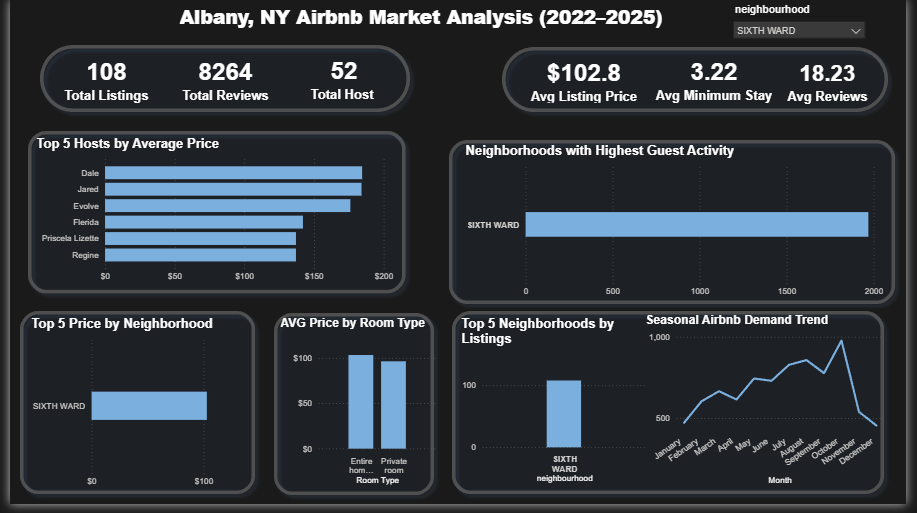

The dashboard page shown, as its layout file describes it:
{"tool":"powerbi","page":{"name":"Page 1","canvas":[1280,720],"ordinal":0},"visuals":[{"type":"group","id":"g1","title":"Group 1","box":[1.6,51.4,1276.1,666.5],"z":0},{"type":"shape","box":[29.7,51.4,554.3,121.4],"z":0,"group":"g1"},{"type":"card","fields":{"Values":["Count(listings.id)"]},"box":[38.6,67.1,198.6,88.6],"z":1000},{"type":"shape","box":[13.2,174.5,565,257.5],"z":1000,"group":"g1"},{"type":"textbox","box":[237.1,0,717.1,65.7],"z":2000},{"type":"shape","box":[689.7,53.9,577.1,118.6],"z":2000,"group":"g1"},{"type":"slicer","fields":{"Values":["listings.neighbourhood"]},"box":[1022.9,0,208.6,65.7],"z":3000},{"type":"shape","box":[614.9,186.5,662.9,260],"z":4000,"group":"g1"},{"type":"barChart","title":"Top 5 Hosts by Average Price","fields":{"Category":["listings.host_name"],"Y":["Avg(listings.price)"]},"box":[32.9,194.3,520,215.7],"z":4000},{"type":"shape","box":[619.2,430.8,642.9,287.1],"z":5000,"group":"g1"},{"type":"barChart","title":"Top 5 Price by Neighborhood","fields":{"Category":["listings.neighbourhood"],"Y":["Avg(listings.price)"]},"box":[25.7,451.4,350,251.4],"z":5000},{"type":"shape","box":[1.6,430.8,361.4,287.1],"z":6000,"group":"g1"},{"type":"shape","box":[364.3,434.3,254.3,285.7],"z":6000},{"type":"clusteredBarChart","title":"Neighborhoods with Highest Guest Activity","fields":{"Category":["listings.neighbourhood"],"Y":["Sum(listings.number_of_reviews_ltm)"]},"box":[645.7,204.3,607.1,227.1],"z":7000},{"type":"columnChart","title":"Top 5 Neighborhoods by Listings","fields":{"Category":["listings.neighbourhood"],"Y":["CountNonNull(listings.id)"]},"box":[640,451.4,274.3,244.3],"z":8000},{"type":"clusteredColumnChart","title":"AVG Price by Room Type","fields":{"Category":["listings.room_type"],"Y":["Avg(listings.price)"]},"box":[381.4,451.4,232.9,245.7],"z":9000},{"type":"card","fields":{"Values":["Count(listings.host_id)"]},"box":[375.7,64.3,202.9,90],"z":10000},{"type":"card","fields":{"Values":["Avg(listings.minimum_nights)"]},"box":[914.3,67.1,182.9,88.6],"z":11000},{"type":"card","fields":{"Values":["Avg(listings.price)"]},"box":[737.1,72.9,165.7,78.6],"z":12000},{"type":"card","fields":{"Values":["Avg(listings.number_of_reviews_ltm)"]},"box":[1082.9,67.1,170,92.9],"z":13000},{"type":"card","fields":{"Values":["Sum(listings.number_of_reviews)"]},"box":[208.6,67.1,198.6,88.6],"z":14000},{"type":"lineChart","title":"Seasonal Airbnb Demand Trend","fields":{"Category":["reviews.date.Variation.Date Hierarchy.Month"],"Y":["CountNonNull(reviews.listing_id)"]},"box":[902.9,447.1,350,250],"z":15000}]}

Visuals, with their boxes in screenshot pixels (x1, y1, x2, y2), scaled from the page's 1280x720 canvas onto the 917x513 screenshot:
"Group 1" group: (1, 37, 915, 512)
shape: (21, 37, 418, 123)
card - Count(listings.id): (28, 48, 170, 111)
shape: (9, 124, 414, 308)
textbox: (170, 0, 684, 47)
shape: (494, 38, 908, 123)
slicer - listings.neighbourhood: (733, 0, 882, 47)
shape: (441, 133, 915, 318)
"Top 5 Hosts by Average Price" barChart: (24, 138, 396, 292)
shape: (444, 307, 904, 512)
"Top 5 Price by Neighborhood" barChart: (18, 322, 269, 501)
shape: (1, 307, 260, 512)
shape: (261, 309, 443, 512)
"Neighborhoods with Highest Guest Activity" clusteredBarChart: (463, 146, 898, 307)
"Top 5 Neighborhoods by Listings" columnChart: (458, 322, 655, 496)
"AVG Price by Room Type" clusteredColumnChart: (273, 322, 440, 497)
card - Count(listings.host_id): (269, 46, 415, 110)
card - Avg(listings.minimum_nights): (655, 48, 786, 111)
card - Avg(listings.price): (528, 52, 647, 108)
card - Avg(listings.number_of_reviews_ltm): (776, 48, 898, 114)
card - Sum(listings.number_of_reviews): (149, 48, 292, 111)
"Seasonal Airbnb Demand Trend" lineChart: (647, 319, 898, 497)
